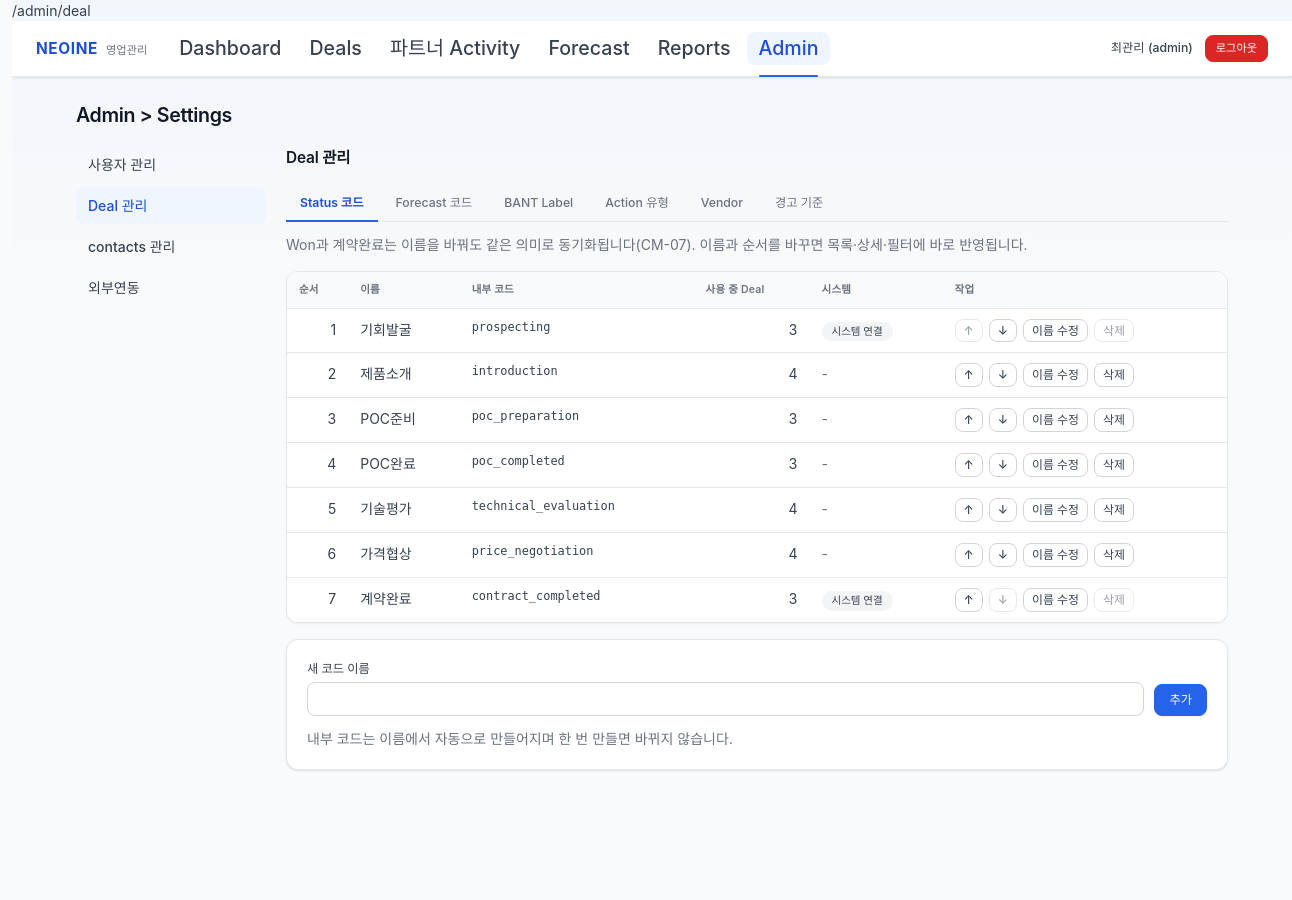
it: BANT Label 관리 목록 (T-LABEL-01, T-ADMIN-06) › shows the creator and time of a label made by a user
Click the tab "BANT Label" at point(539, 204), box [490,186,587,222]
(page scrolled)
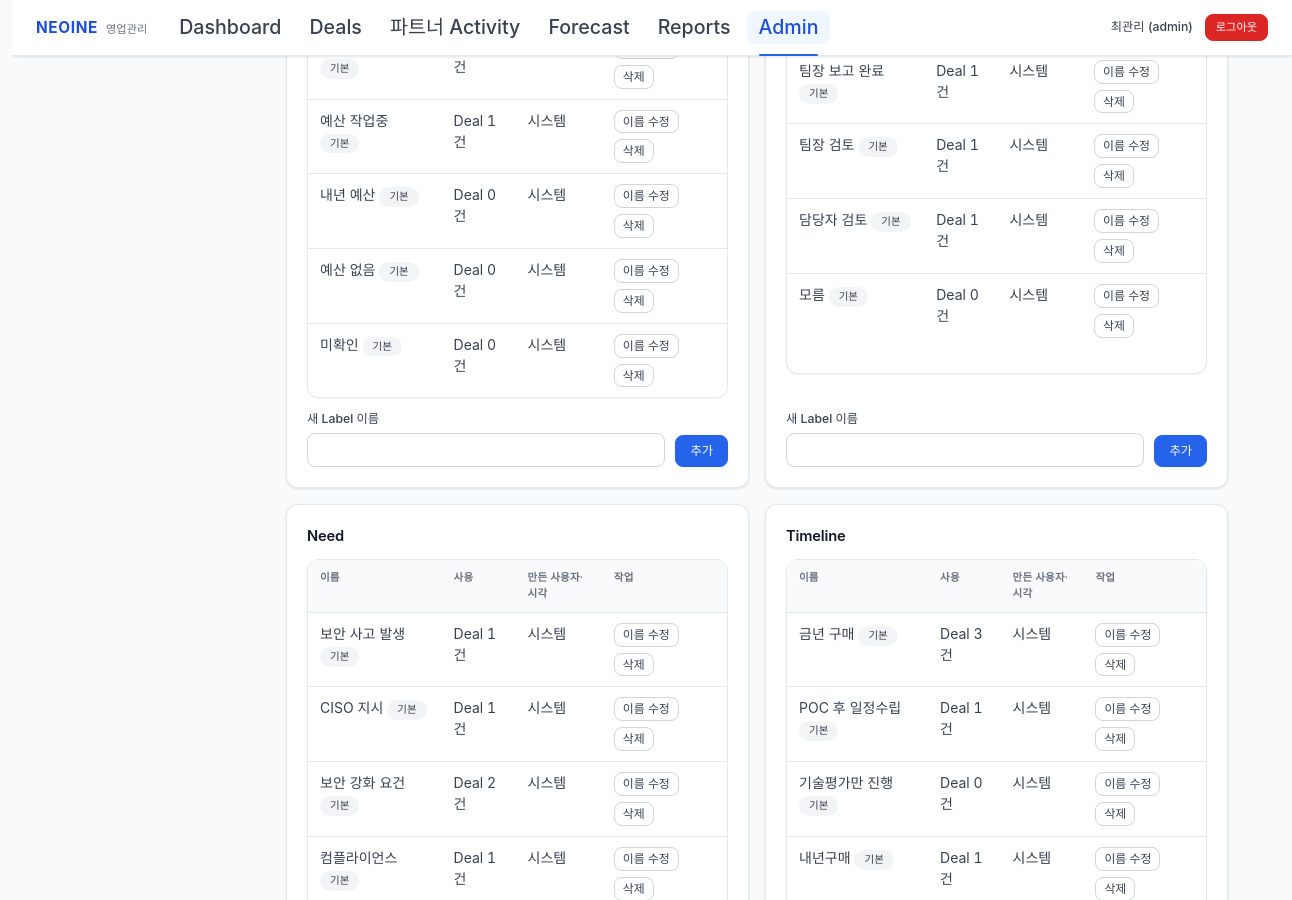
Type "분기 예산" into the field labelled "새 Label 이름" below "미확인" at point(486, 450), box [307,433,666,467]
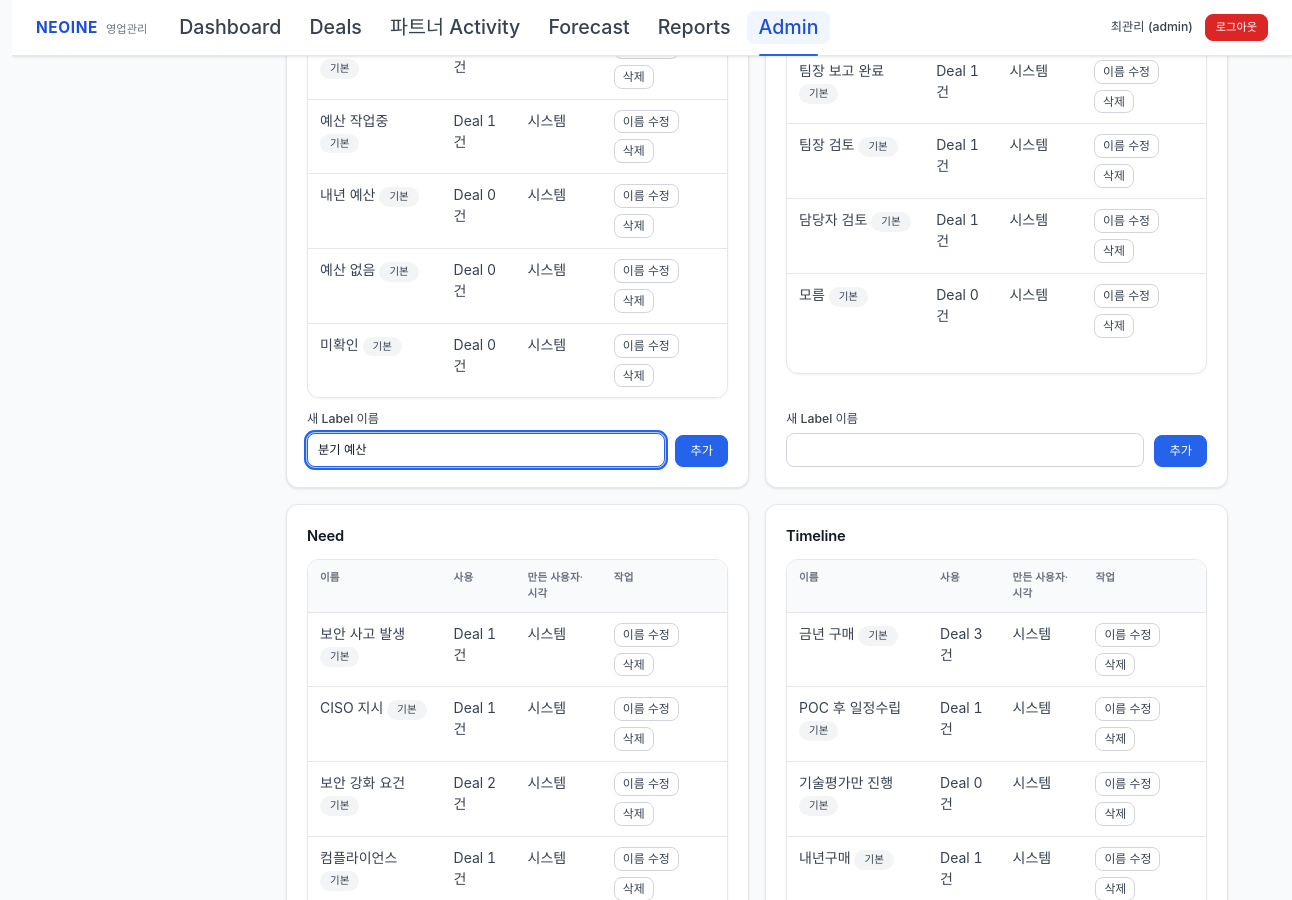
Click the 1st button "추가" at point(702, 451), box [676,435,728,467]
(page scrolled)
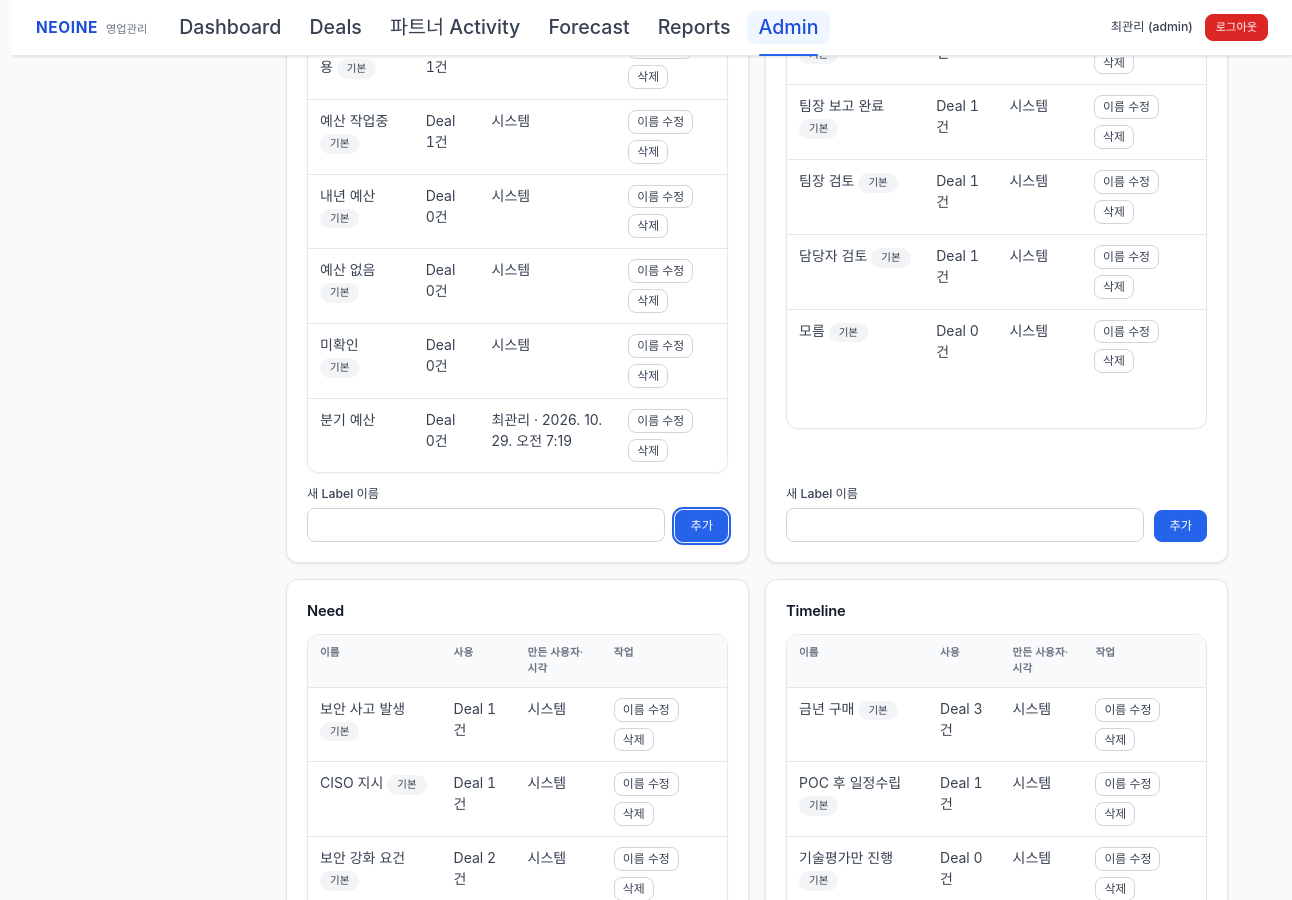
Expected: the text "분기 예산" is shown, [308,399,414,472]
Expected: the text "최관리 · 2026. 10. 29. 오전 7:19" is shown, [480,399,616,472]
Expected: the text "Deal 0건" next to "분기 예산" is shown, [426,411,455,449]
